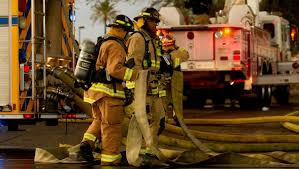emergent: (92, 13, 127, 165), (127, 8, 162, 146)
